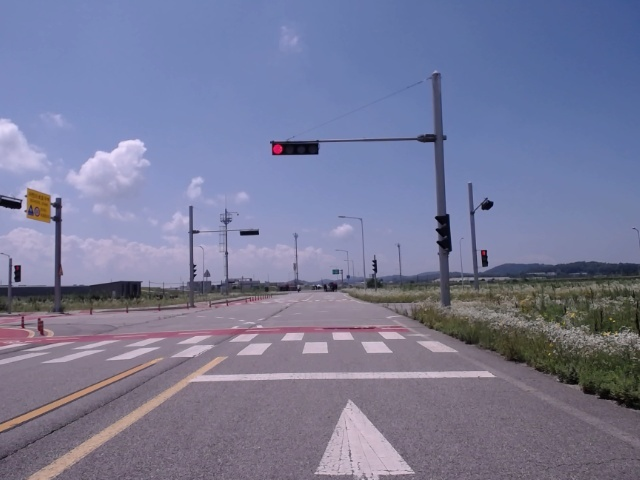red_4: (272, 142, 319, 155)
